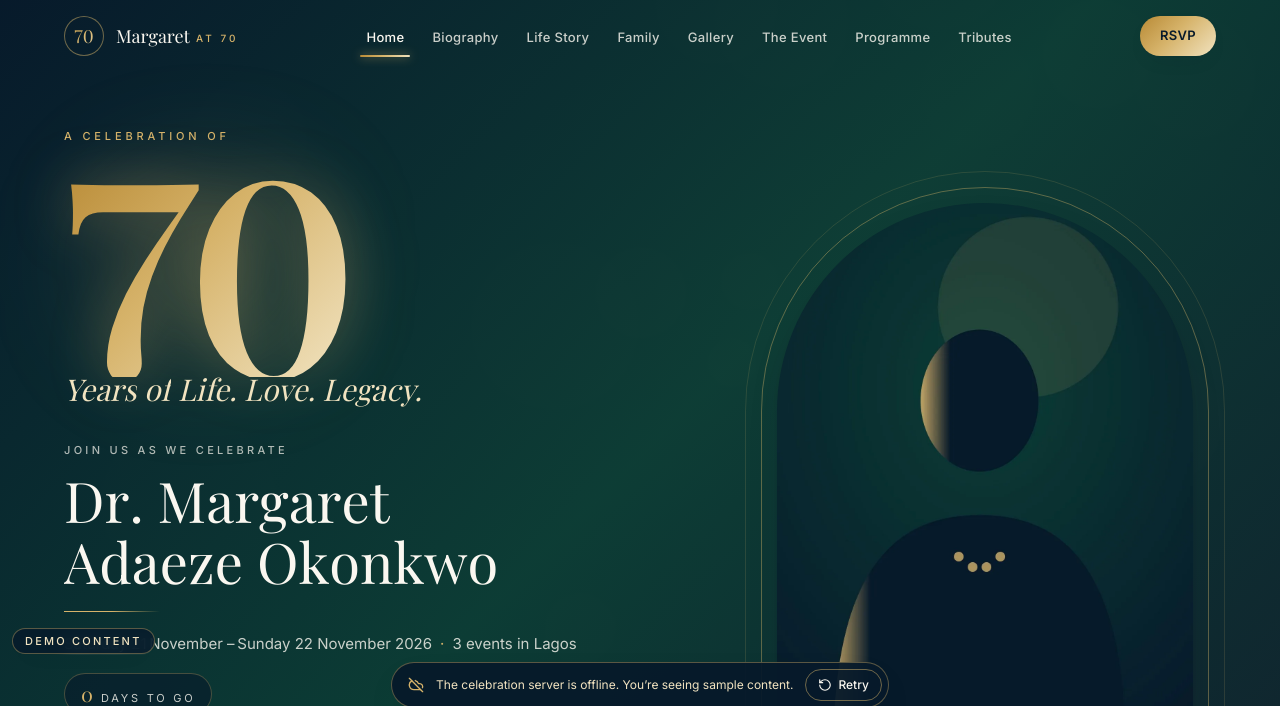
it: public pages with the API down › swaps in real data and drops the banner when Retry reaches the API
Expected: the text "The celebration server is offline. You’re seeing sample content." is shown, [436,677,794,693]
Click the button "Retry": click(844, 685) [806,669,882,701]
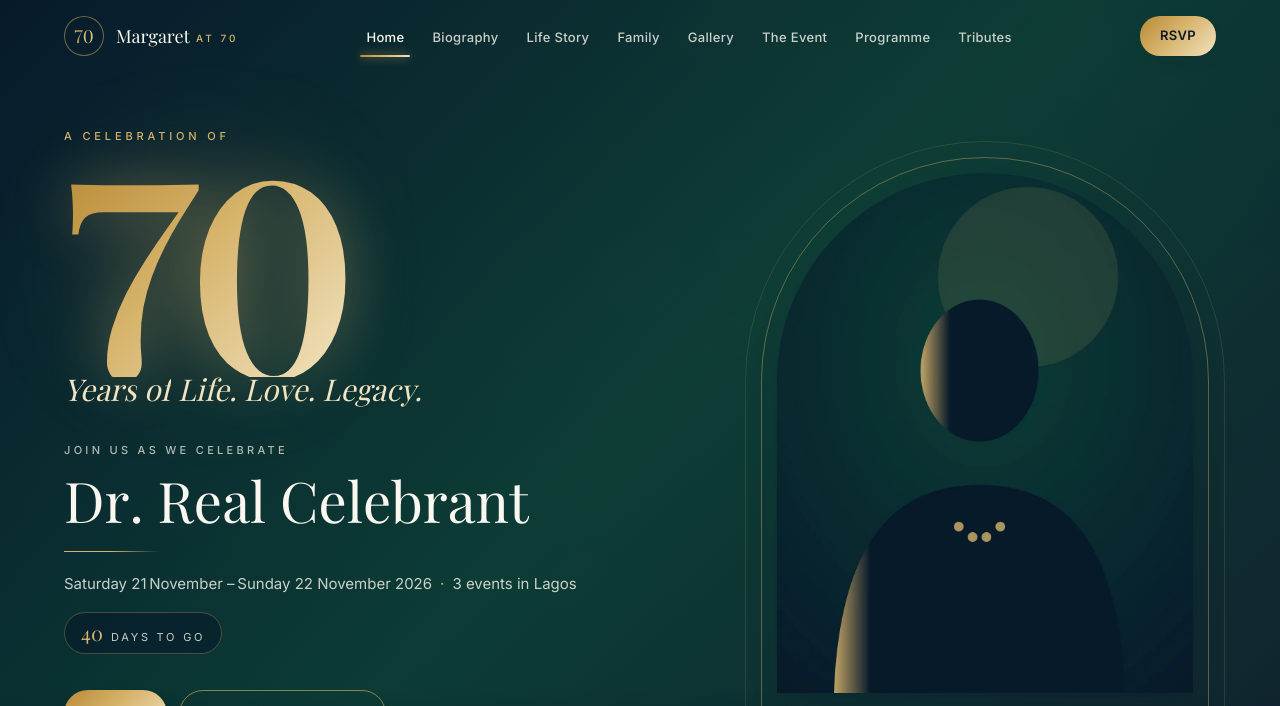
Expected: the heading named "Dr. Real Celebrant: celebrating 70 years" is shown, [64,470,690,531]
Expected: the text "sample content" is gone
